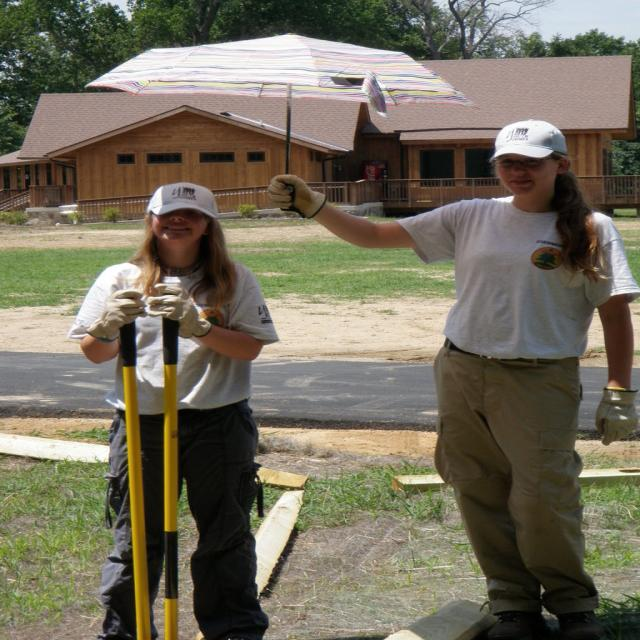no_helmet: (432, 108, 516, 165), (176, 172, 252, 229)
